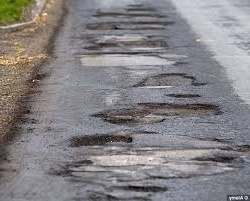pothole: (53, 140, 249, 181), (83, 101, 222, 132), (125, 69, 210, 92), (71, 50, 183, 67), (82, 17, 173, 34), (79, 37, 168, 54), (63, 131, 133, 146), (80, 11, 167, 18), (113, 183, 166, 192), (163, 91, 203, 98), (123, 4, 157, 11), (125, 2, 145, 8)
